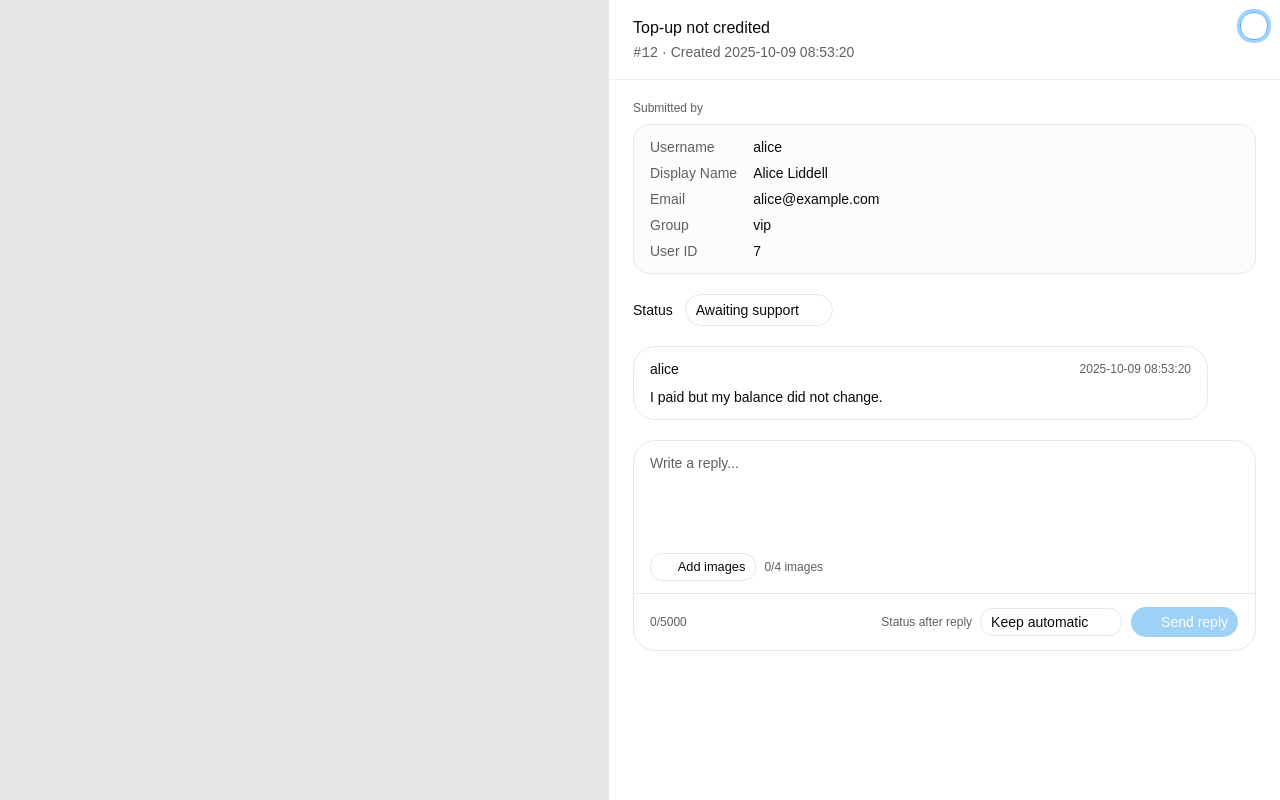
Scenario: ticket detail sheet › keeps the reply draft and shows the server message when the reply is rejected
The image size is (1280, 800).
Expected: the text "I paid but my balance did not change." is shown, left=650, top=389, right=883, bottom=405
Type "One more thing" into the text box labelled "reply" at (944, 497), box left=634, top=441, right=1255, bottom=553
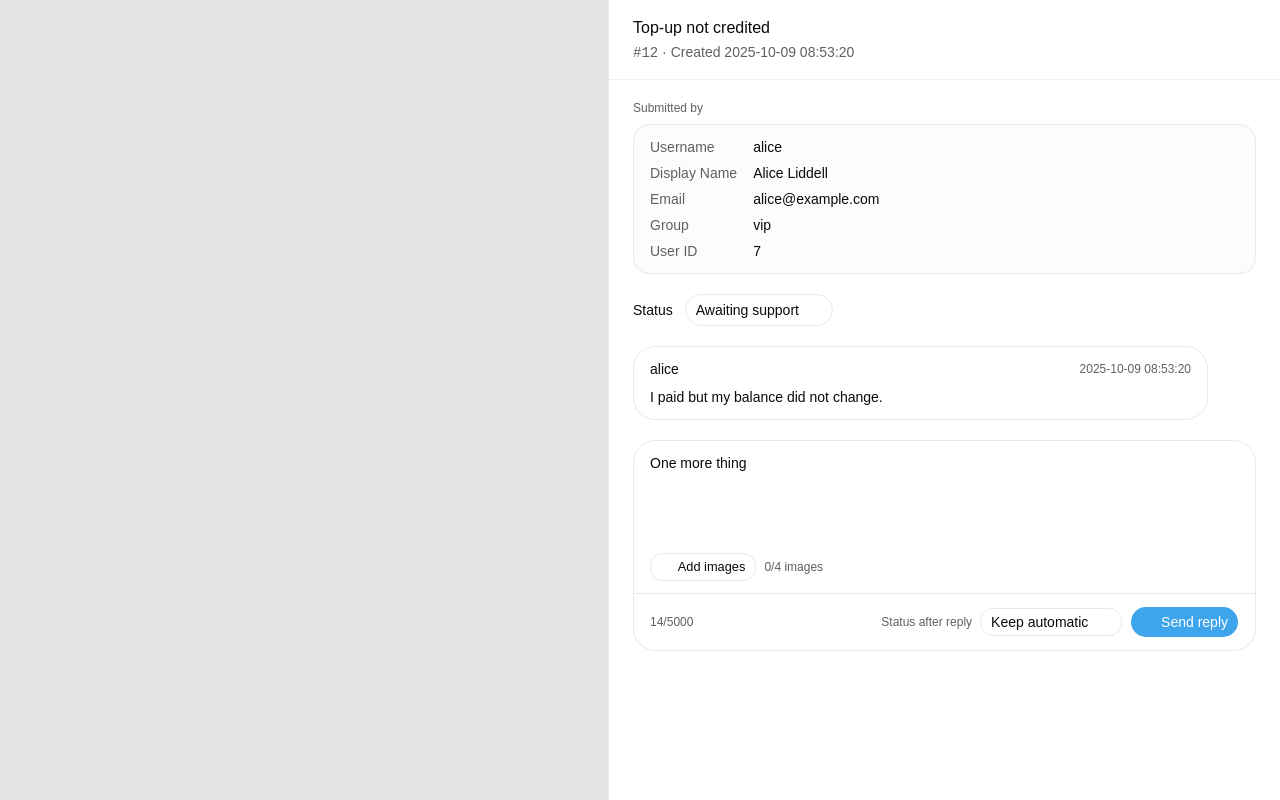
Click the button "Send reply" at (1185, 622), box left=1130, top=606, right=1239, bottom=638
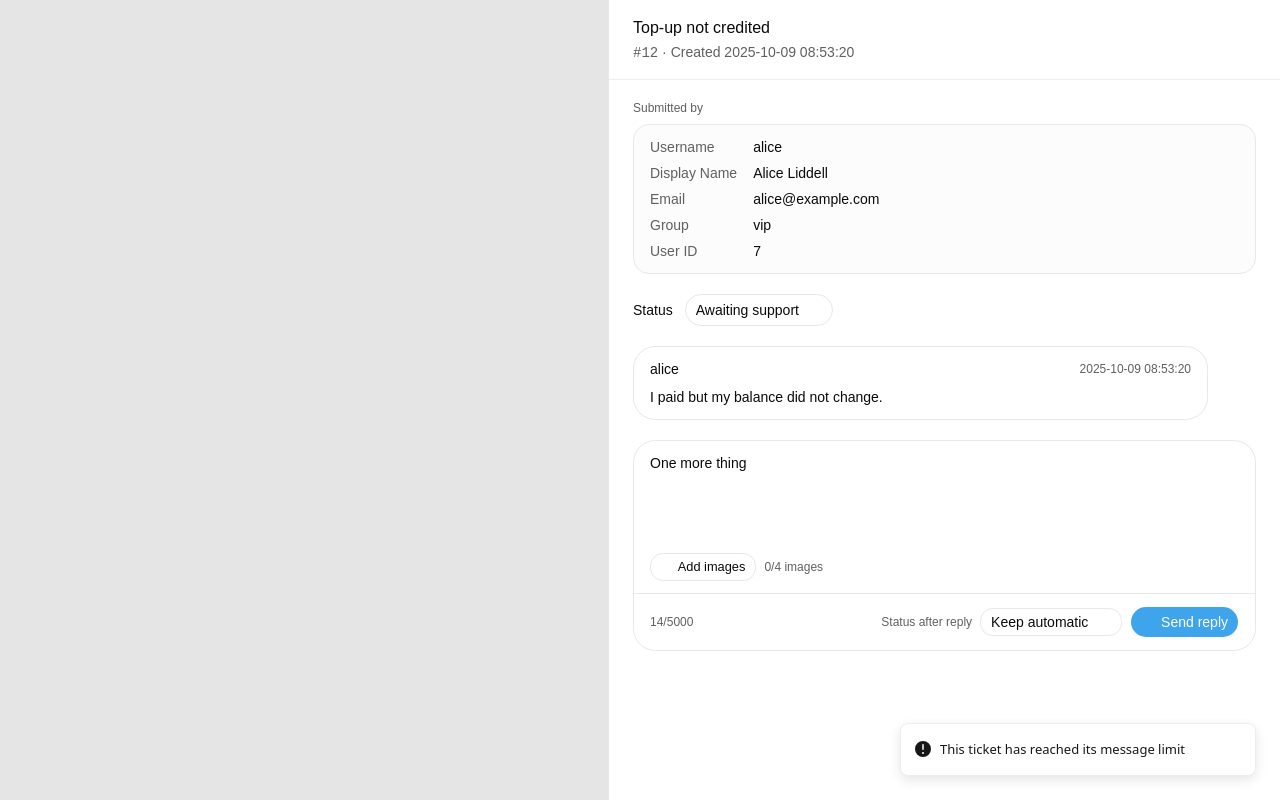
Expected: the text "This ticket has reached its message limit" is shown, left=940, top=740, right=1185, bottom=759
